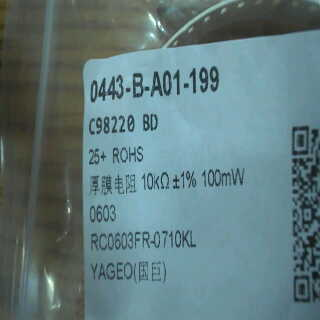10kR: (140, 168, 171, 192)
